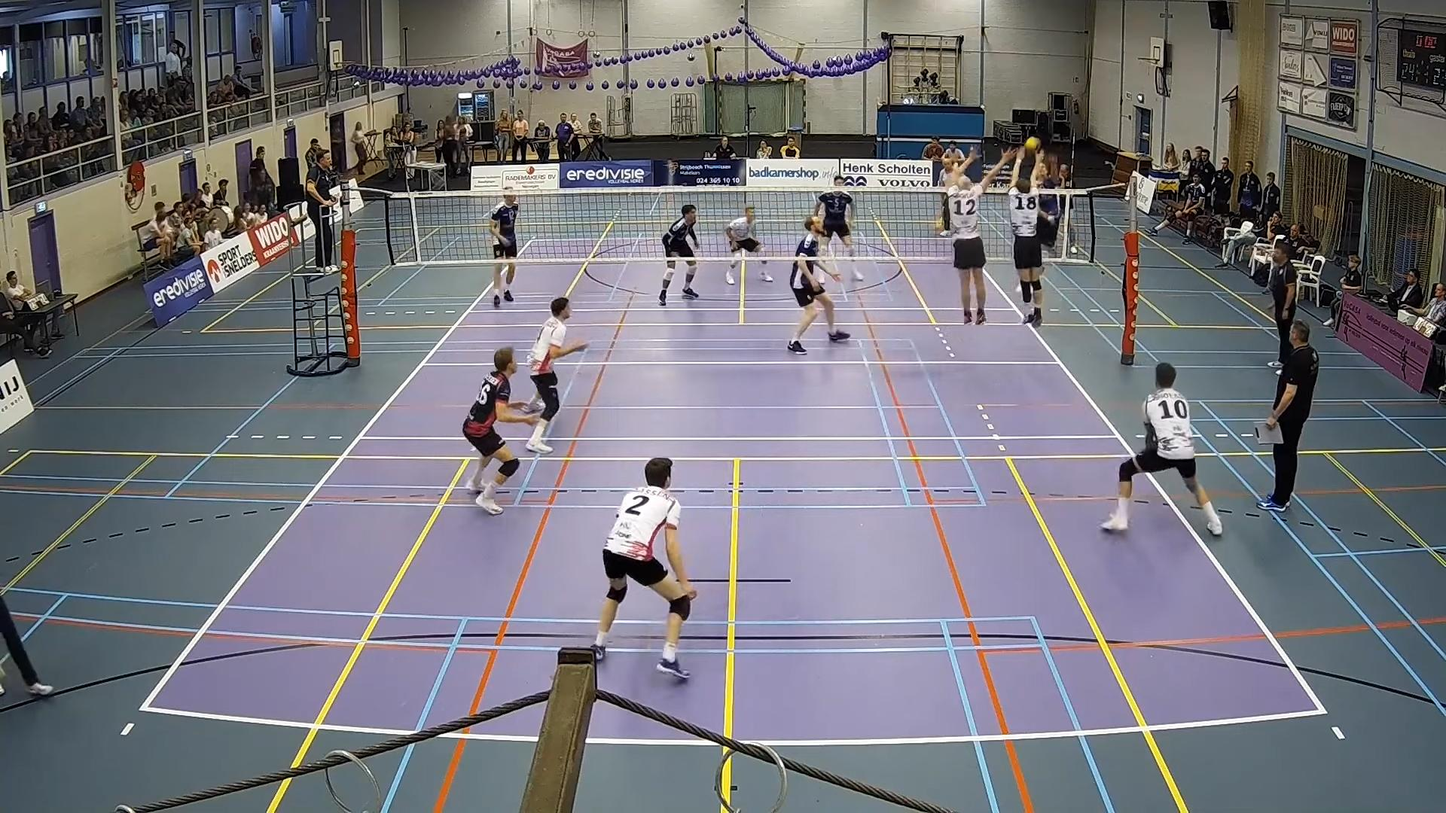attacco: (1035, 156, 1060, 281)
muro: (946, 157, 998, 329), (1012, 155, 1055, 327)
